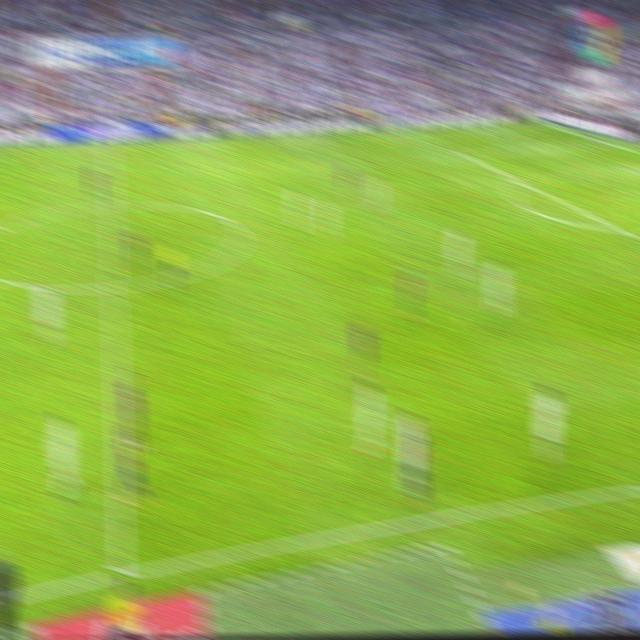corner: (533, 116, 548, 129)
halfcircle_bottom: (105, 275, 124, 299)
halfcircle_top: (102, 194, 120, 215)
midline_bottom_intersection: (109, 559, 134, 585)
midline_top_intersection: (102, 139, 116, 152)
top_arc_area_intersection: (513, 173, 529, 189)
